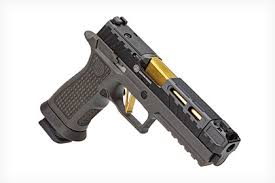gun: (38, 15, 241, 168)
